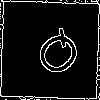Q: (25, 25, 87, 87)
